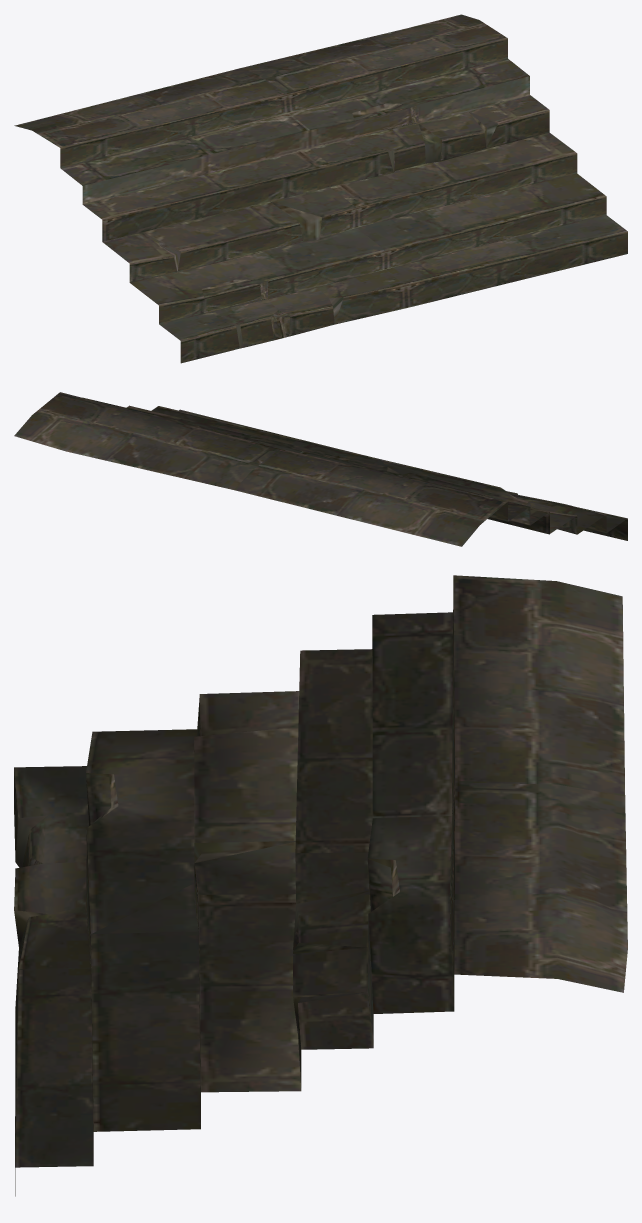
File: S_Build_Forest061.FBX
3 views of the same model, one above another, from view 1: azimuth 30°, elevation 25°; view 2: azimuth 150°, elevation 25°; view 3: azimuth 270°, elevation 25° (orthographic). The views are drawn at different scales.
Parts seen in each view (by area): view 1: S_Build_Forest061; view 2: S_Build_Forest061; view 3: S_Build_Forest061.
Boxes of the visible parts, bbox=[...] form: S_Build_Forest061: bbox=[14, 14, 627, 363]; S_Build_Forest061: bbox=[14, 392, 627, 546]; S_Build_Forest061: bbox=[14, 575, 627, 1196].
Size of the model in its own units: 806 by 523 by 223.
